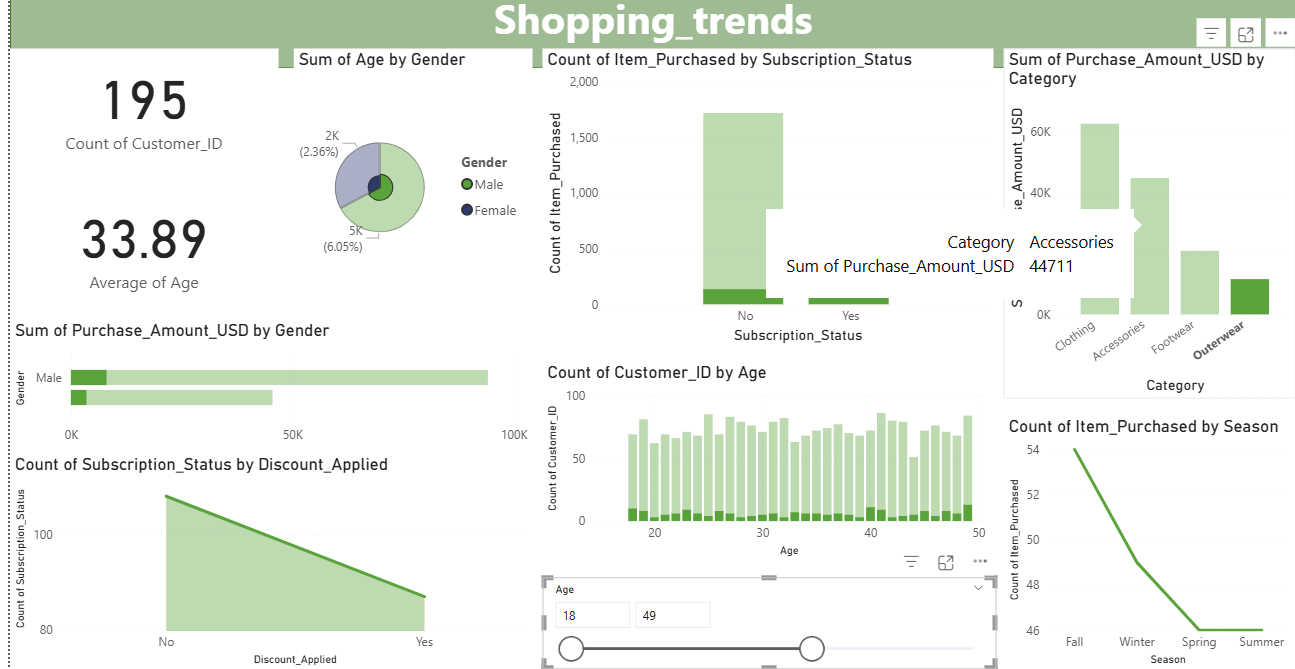

Layout of this report page (visuals, bound fields, positions):
{"tool":"powerbi","page":{"name":"Page 1","canvas":[1280,720],"ordinal":0},"visuals":[{"type":"shape","box":[0,20.6,1280.3,100.2],"z":0},{"type":"pieChart","fields":{"Category":["shopping_trends.Gender"],"Y":["Sum(shopping_trends.Age)"]},"box":[282.9,101.9,237.7,257.5],"z":1000},{"type":"clusteredColumnChart","fields":{"Y":["Sum(shopping_trends.Purchase_Amount_USD)"],"Category":["shopping_trends.Category"]},"box":[989.5,101.6,290.8,348.6],"z":2000},{"type":"columnChart","fields":{"Category":["shopping_trends.Subscription_Status"],"Y":["CountNonNull(shopping_trends.Item_Purchased)"]},"box":[530.5,101.9,448.5,298.5],"z":3000},{"type":"card","fields":{"Values":["CountNonNull(shopping_trends.Customer_ID)"]},"box":[0,101.6,267.3,111],"z":4000},{"type":"card","fields":{"Values":["Avg(shopping_trends.Age)"]},"box":[0,231.4,267.3,128.2],"z":5000},{"type":"barChart","fields":{"Category":["shopping_trends.Gender"],"Y":["Sum(shopping_trends.Purchase_Amount_USD)"]},"box":[0,372.1,520.6,132.9],"z":6000},{"type":"areaChart","fields":{"Category":["shopping_trends.Discount_Applied"],"Y":["CountNonNull(shopping_trends.Subscription_Status)"]},"box":[0,504.9,520.6,215.7],"z":7000},{"type":"lineChart","fields":{"Category":["shopping_trends.Season"],"Y":["CountNonNull(shopping_trends.Item_Purchased)"]},"box":[989.5,467.4,290.8,253.2],"z":8000},{"type":"lineClusteredColumnComboChart","fields":{"Y":["CountNonNull(shopping_trends.Customer_ID)"],"Category":["shopping_trends.Age"]},"box":[530.5,414.5,447,198.1],"z":8001},{"type":"slicer","fields":{"Values":["shopping_trends.Age"]},"box":[530.5,628.1,451.3,92],"z":8002}]}

Visuals, with their boxes on the page's 1280x720 design canvas (x1, y1, x2, y2). These are canvas units, not pixel positions in the 1295x669 screenshot, which may show the page scaled, cropped or inside an application window:
shape: <bbox>0, 21, 1280, 121</bbox>
pieChart - shopping_trends.Gender x Sum(shopping_trends.Age): <bbox>283, 102, 521, 359</bbox>
clusteredColumnChart - Sum(shopping_trends.Purchase_Amount_USD) x shopping_trends.Category: <bbox>990, 102, 1280, 450</bbox>
columnChart - shopping_trends.Subscription_Status x CountNonNull(shopping_trends.Item_Purchased): <bbox>530, 102, 979, 400</bbox>
card - CountNonNull(shopping_trends.Customer_ID): <bbox>0, 102, 267, 213</bbox>
card - Avg(shopping_trends.Age): <bbox>0, 231, 267, 360</bbox>
barChart - shopping_trends.Gender x Sum(shopping_trends.Purchase_Amount_USD): <bbox>0, 372, 521, 505</bbox>
areaChart - shopping_trends.Discount_Applied x CountNonNull(shopping_trends.Subscription_Status): <bbox>0, 505, 521, 721</bbox>
lineChart - shopping_trends.Season x CountNonNull(shopping_trends.Item_Purchased): <bbox>990, 467, 1280, 721</bbox>
lineClusteredColumnComboChart - CountNonNull(shopping_trends.Customer_ID) x shopping_trends.Age: <bbox>530, 414, 978, 613</bbox>
slicer - shopping_trends.Age: <bbox>530, 628, 982, 720</bbox>
